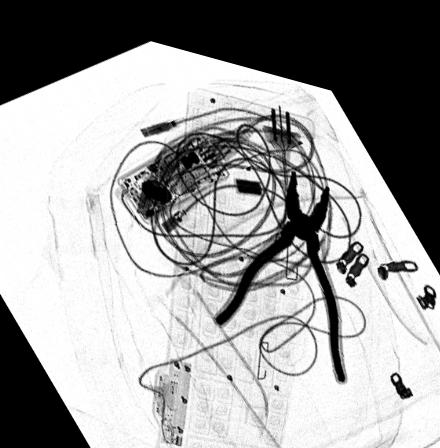Pliers: (215, 154, 350, 365)
